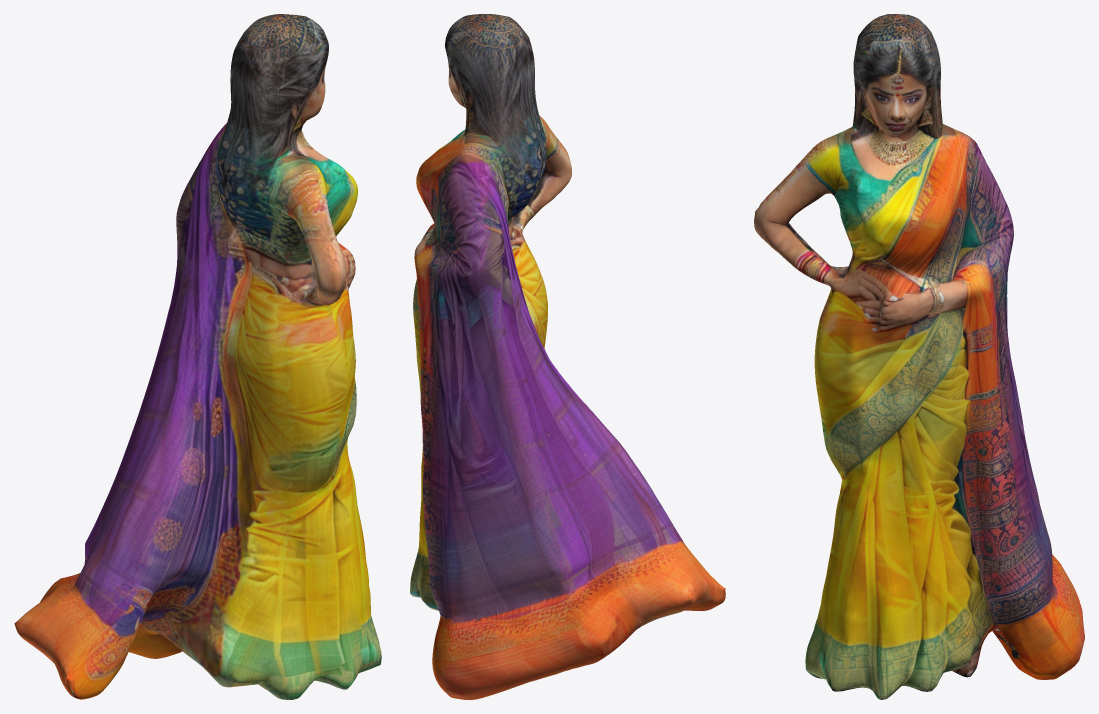
Rendered from clothing5.glb.
3 renders of one model, left to right at view 1: azimuth 30°, elevation 25°; view 2: azimuth 150°, elevation 25°; view 3: azimuth 270°, elevation 25°, orthographic. The views are drawn at different scales.
Visible parts, largest first — view 1: Object_4; view 2: Object_4; view 3: Object_4.
Boxes of the visible parts, left/top/right/bottom form: Object_4: left=14, top=14, right=381, bottom=699; Object_4: left=410, top=14, right=725, bottom=699; Object_4: left=754, top=14, right=1084, bottom=699.
Bounding box in the file's own units: 0.6049 × 1.2 × 0.5301.
Materials: 1 (1 with a texture image).
